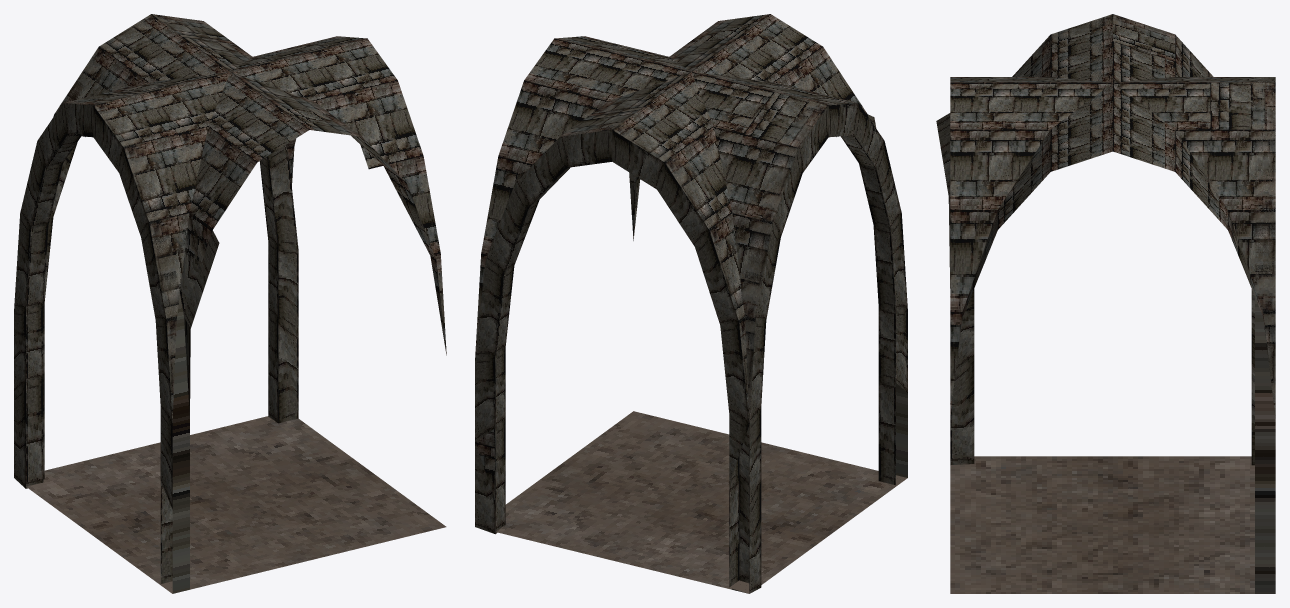
Rendered from dungeon_crossing_model.gltf.
3 renders of one model, left to right at view 1: azimuth 30°, elevation 25°; view 2: azimuth 150°, elevation 25°; view 3: azimuth 270°, elevation 25°, orthographic. The views are drawn at different scales.
Visible parts, largest first — view 1: Cube.001; view 2: Cube.001; view 3: Cube.001.
Boxes of the visible parts, x1,y1,x2,y2 form: Cube.001: [14, 14, 446, 593]; Cube.001: [475, 14, 907, 593]; Cube.001: [936, 14, 1275, 593].
Bounding box in the file's own units: 2 × 3.02 × 2.09.
Materials: 2 (2 with a texture image).
